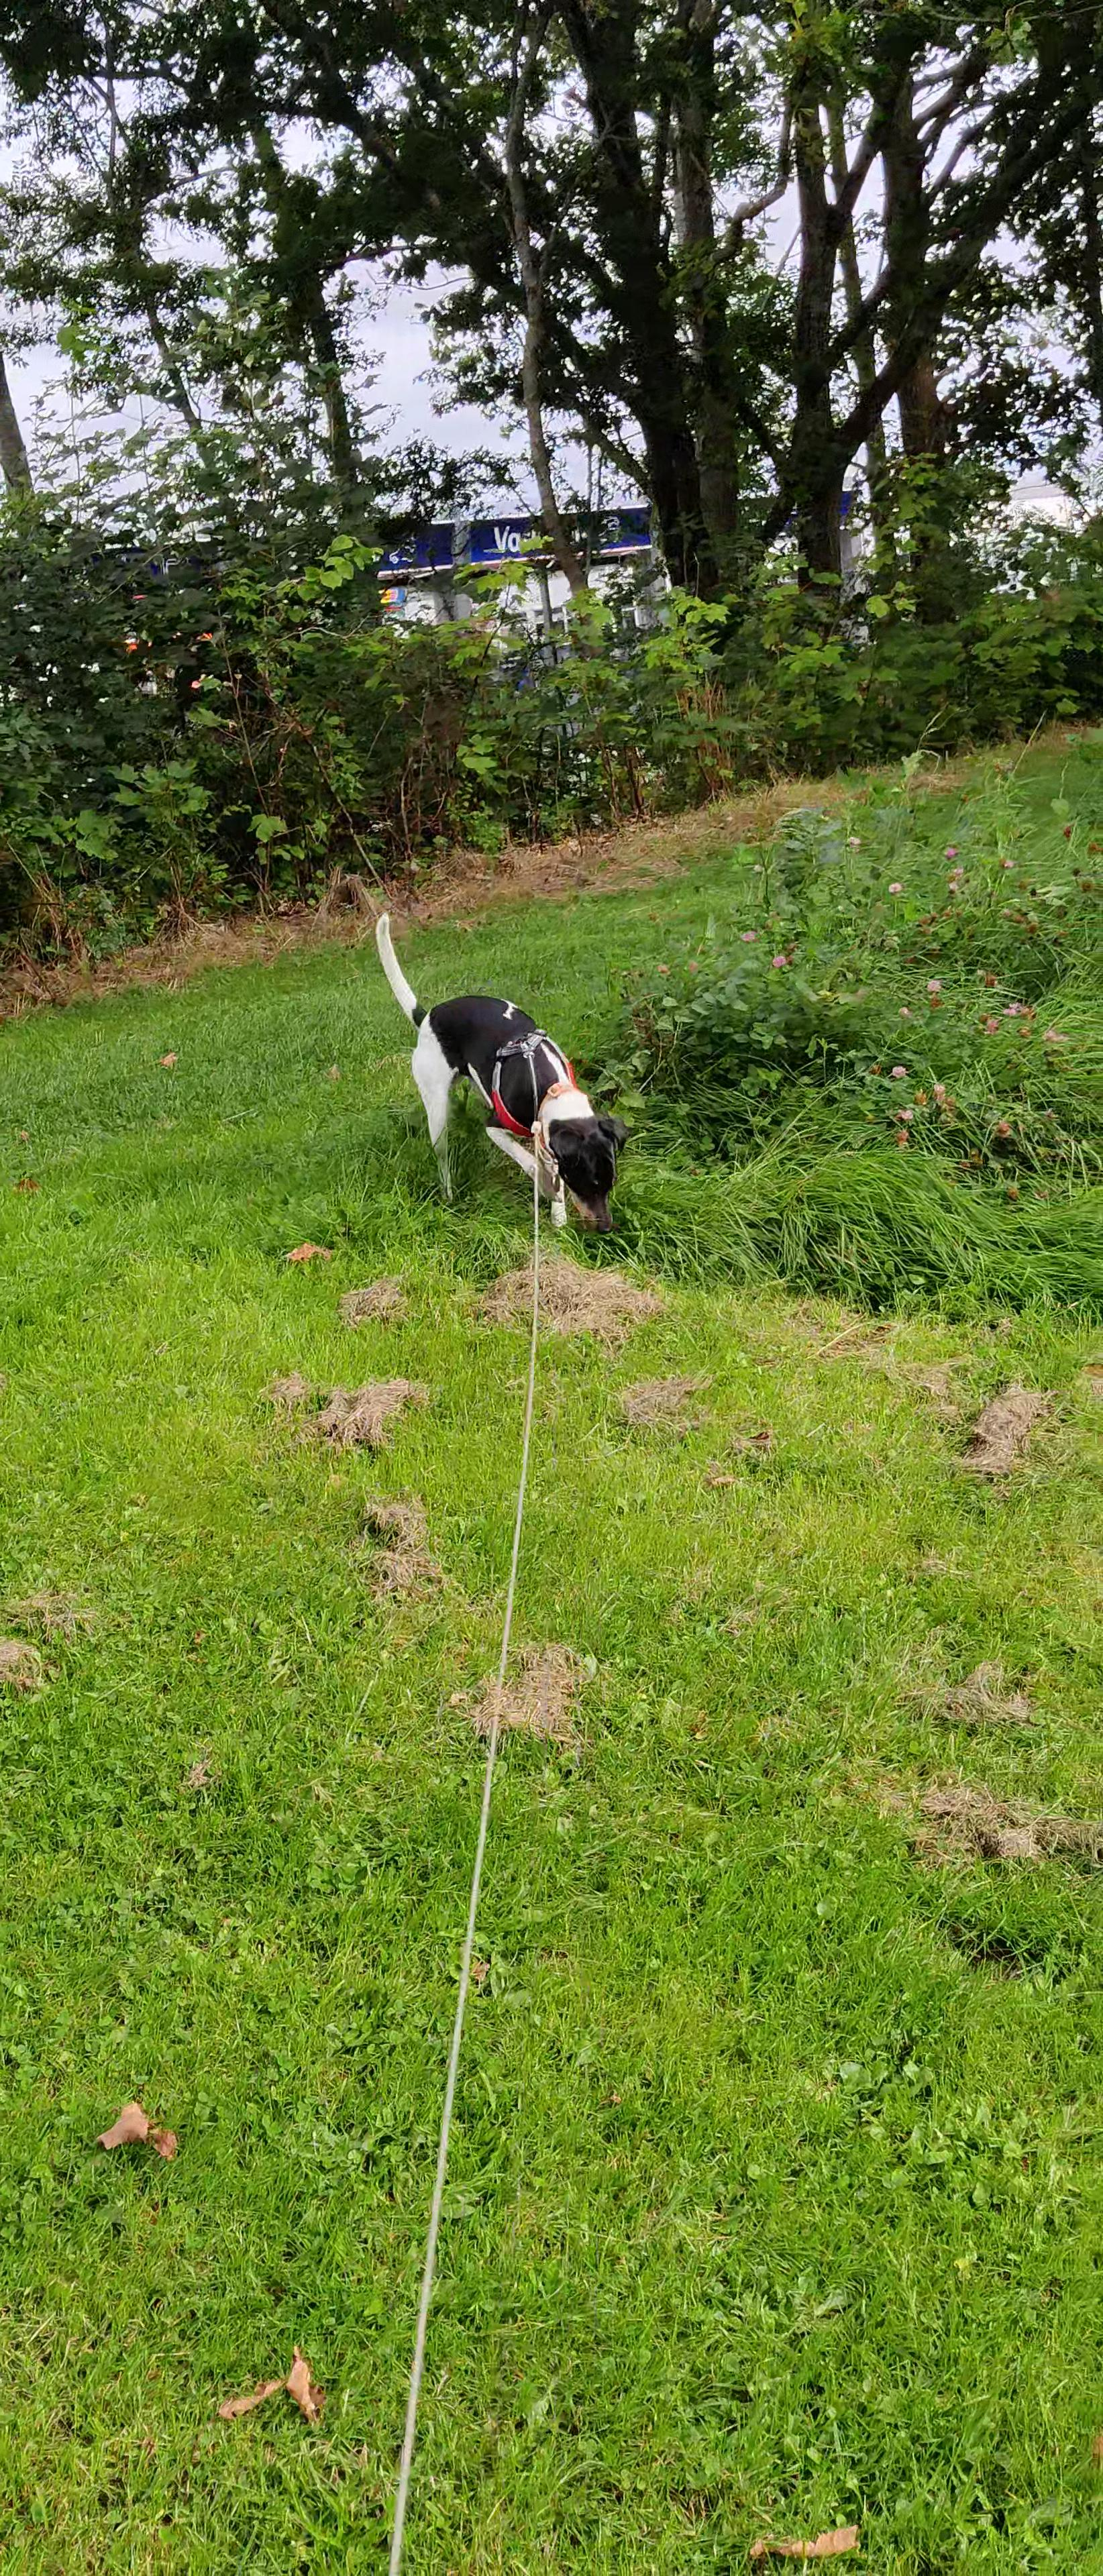Dog: (372, 908, 633, 1242)
